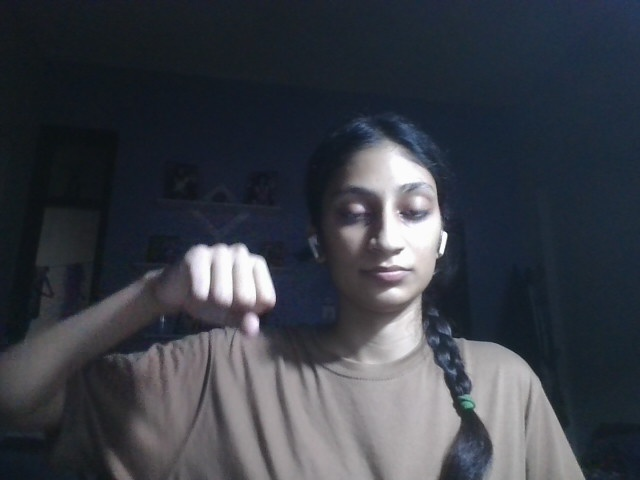yes: (162, 239, 285, 339)
